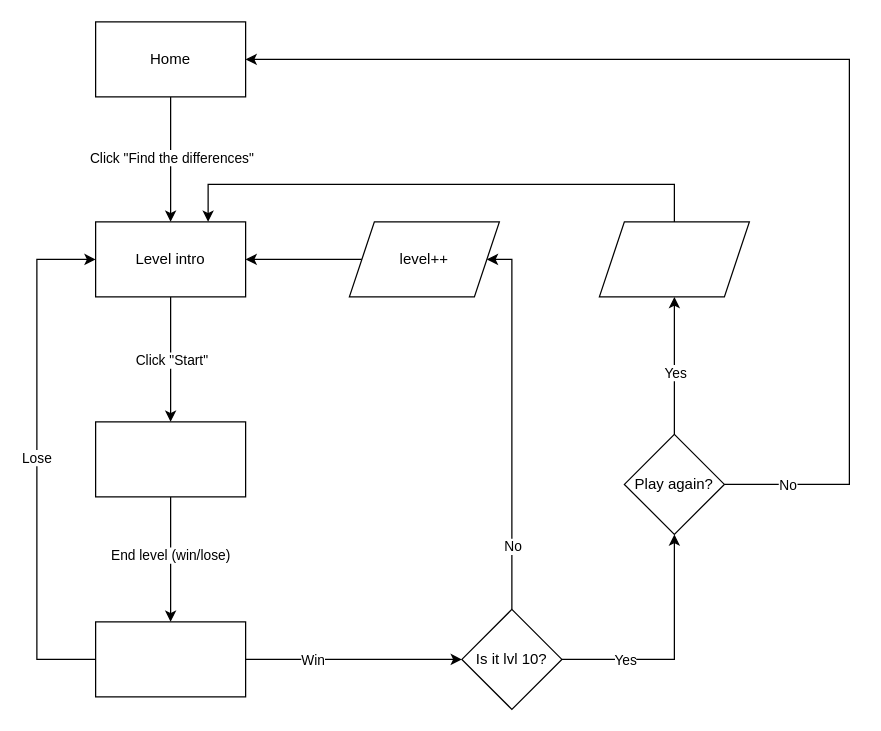
The diagram is 881 pixels wide and 731 high, and some of its shapes have lost their labels. The shapes that lost their labels are listed below. From the top down, each one's centre as x and y in pixels, then its label:
(673,259): level = 1
(170,459): Game
(170,659): Level summary
